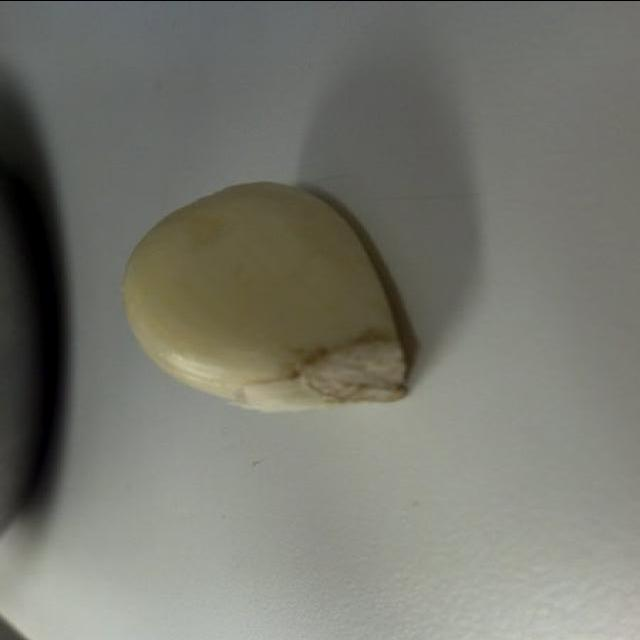garlic: (123, 171, 415, 417)
